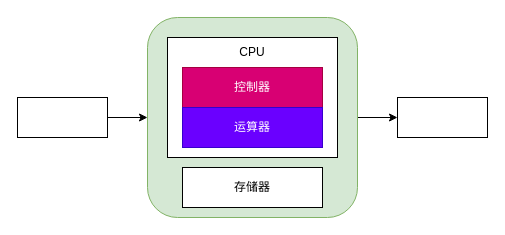
This 505x235 diagram has some shape labels left out. Here are the shapes that lost their labels. From the top down, the box of each, then its label:
(16, 96, 108, 138): 输入设备
(396, 96, 488, 138): 输出设备
